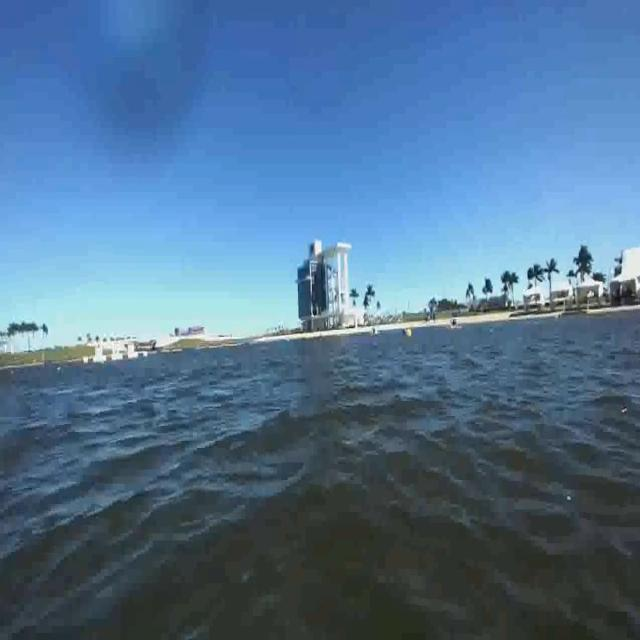yellow-buoy: (407, 327, 414, 337)
